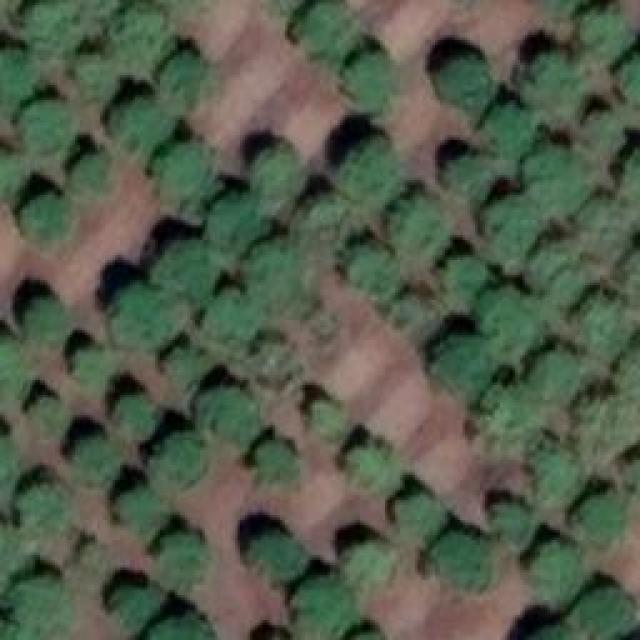Tree: (245, 243, 315, 313), (330, 138, 395, 208), (113, 282, 178, 350), (525, 235, 588, 305), (205, 198, 265, 271), (570, 198, 635, 263), (528, 148, 591, 213), (477, 290, 535, 360), (105, 0, 163, 65), (427, 335, 495, 390), (160, 240, 218, 303), (248, 148, 303, 213), (433, 55, 493, 113), (390, 198, 448, 258), (293, 578, 356, 633), (570, 585, 633, 640), (573, 395, 638, 448), (485, 197, 543, 255), (432, 530, 490, 588), (12, 575, 70, 633), (295, 0, 355, 55), (24, 0, 87, 52), (530, 347, 585, 405), (478, 385, 533, 443), (525, 50, 585, 103), (195, 390, 258, 440), (118, 95, 171, 153), (153, 145, 208, 200), (153, 433, 208, 488), (570, 495, 623, 548), (20, 100, 68, 158), (345, 438, 395, 493), (580, 293, 630, 348), (345, 50, 395, 103), (348, 243, 401, 293), (158, 533, 208, 586), (205, 290, 260, 338), (250, 533, 308, 578), (293, 190, 353, 233), (532, 540, 580, 593), (437, 148, 495, 191), (483, 105, 533, 153), (20, 193, 73, 238), (77, 50, 125, 98), (397, 492, 445, 540), (343, 540, 396, 583), (578, 5, 623, 55), (20, 483, 70, 528), (535, 448, 575, 503), (110, 392, 155, 440), (0, 530, 32, 597), (160, 53, 200, 106), (117, 488, 165, 531), (0, 48, 38, 101), (252, 443, 300, 483), (23, 295, 63, 340), (440, 255, 485, 295), (493, 503, 533, 548), (70, 150, 115, 188), (135, 620, 215, 640), (75, 438, 110, 481), (113, 590, 156, 625), (0, 338, 25, 398), (75, 350, 115, 385), (30, 397, 63, 435), (165, 350, 203, 380), (0, 148, 25, 193), (615, 345, 640, 390), (310, 403, 343, 436), (520, 625, 588, 640), (0, 435, 18, 485), (625, 248, 640, 308), (622, 152, 640, 200), (625, 53, 640, 106)
